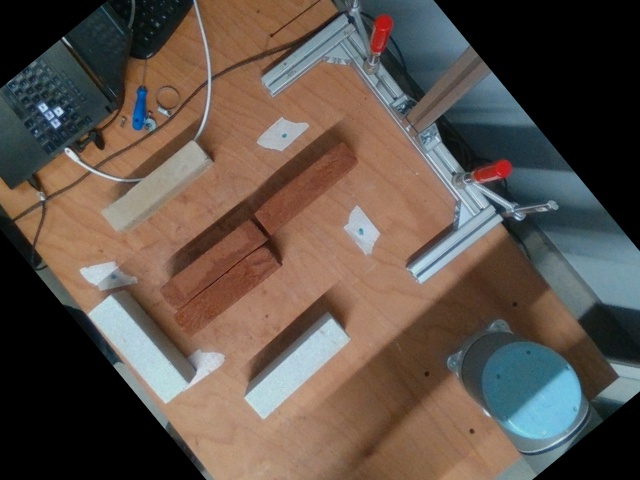brick-side: (242, 318, 349, 419), (86, 294, 185, 401), (157, 215, 266, 311), (174, 245, 279, 338), (101, 138, 206, 231), (253, 141, 357, 233)
